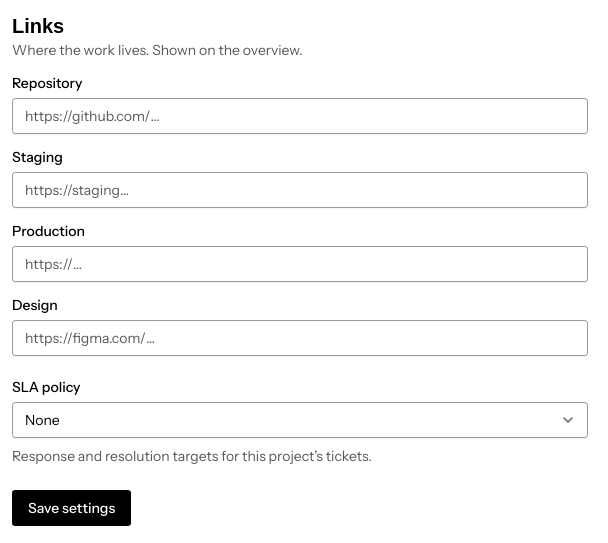
Test: ProjectSettings › saves links and the SLA policy, keeping the rest of the project
Type "https://github.com/unbuilt/glossup" into the field labelled "Repository".
click(300, 116); type("https://github.com/unbuilt/glossup")  # box [12,98,588,134]
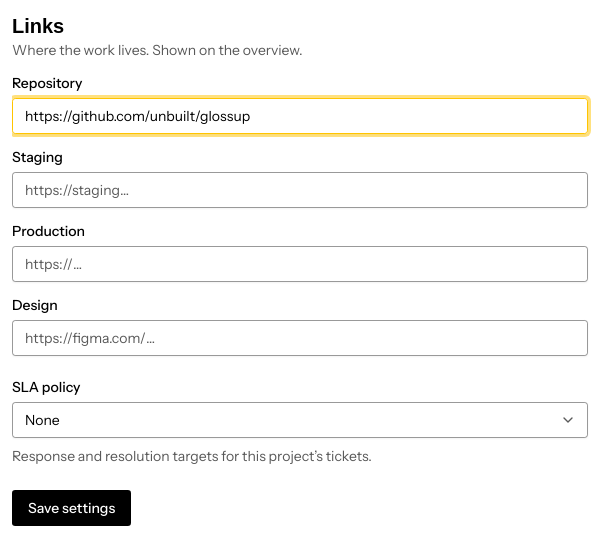
Select "Standard" in the dropdown labelled "SLA policy" at (300, 420), box [12,402,588,438]
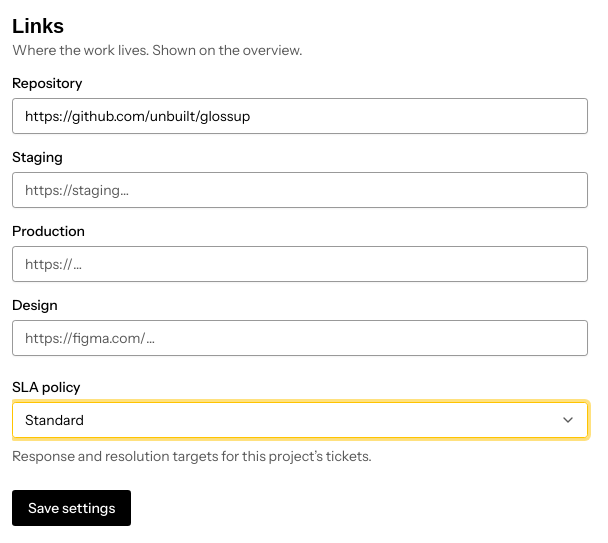
Click the button "Save settings".
click(72, 508)  # box [12,490,131,526]
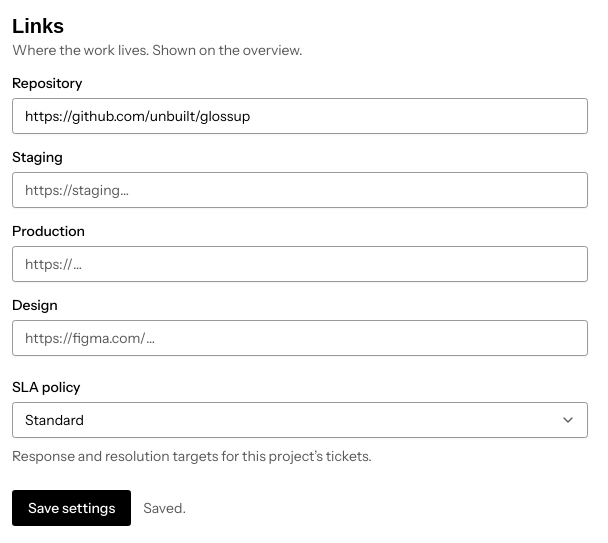
Result: the text "Saved." is shown at [143,498,186,518]
